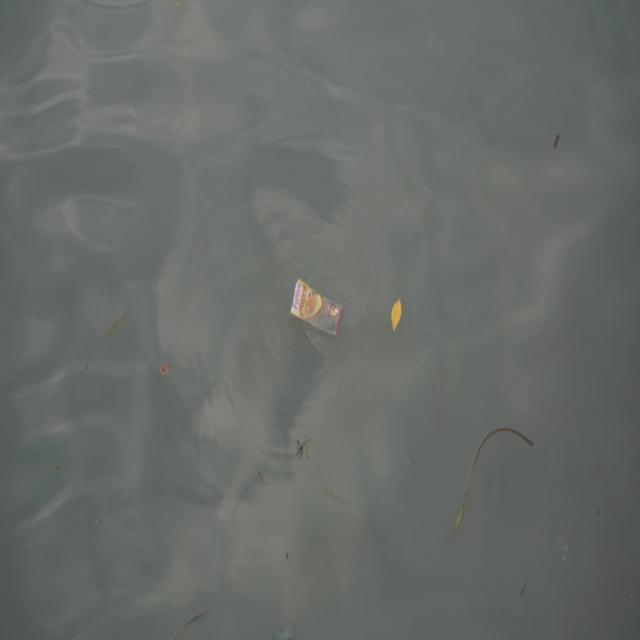Bungkus Makanan: (287, 273, 348, 345)
